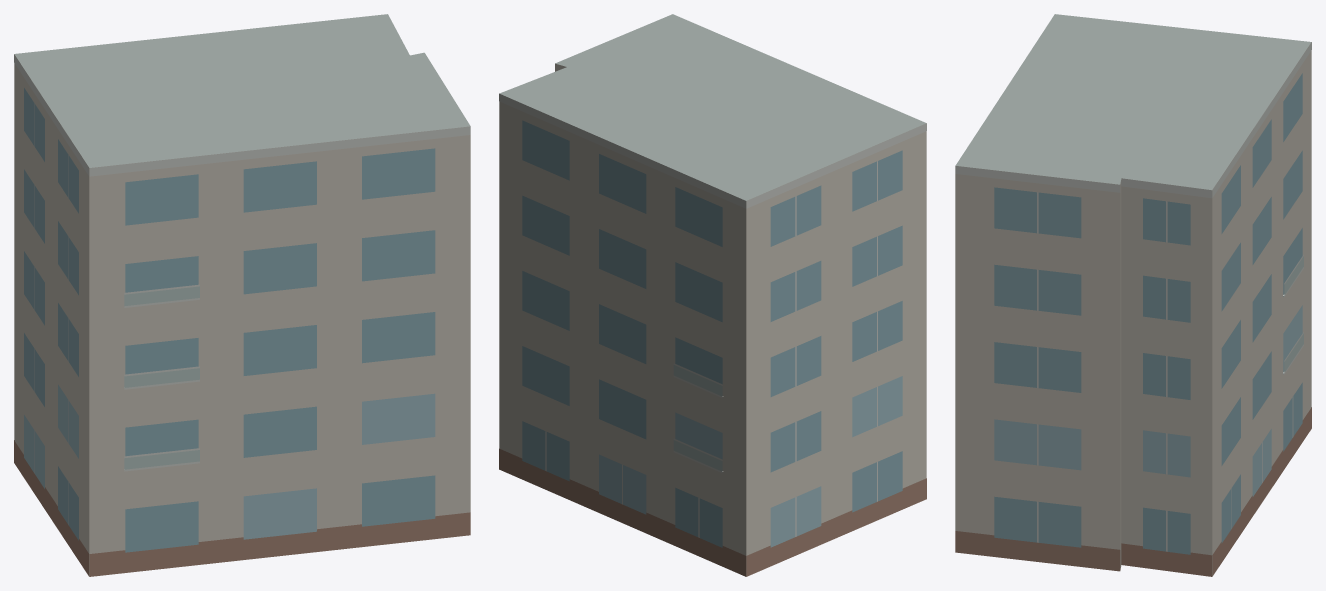
Rendered from survey-upis-32872649.glb.
3 renders of one model, left to right at view 1: azimuth 30°, elevation 25°; view 2: azimuth 150°, elevation 25°; view 3: azimuth 270°, elevation 25°, orthographic. The views are drawn at different scales.
Visible parts, largest first — view 1: survey-upis-32872649.tmp; view 2: survey-upis-32872649.tmp; view 3: survey-upis-32872649.tmp.
Part boxes in pixels (x1,y1,x2,y2): survey-upis-32872649.tmp: [14, 14, 470, 576]; survey-upis-32872649.tmp: [499, 14, 926, 576]; survey-upis-32872649.tmp: [955, 14, 1311, 576].
Size of the model in its own units: 11.35 by 11.6 by 9.7.
